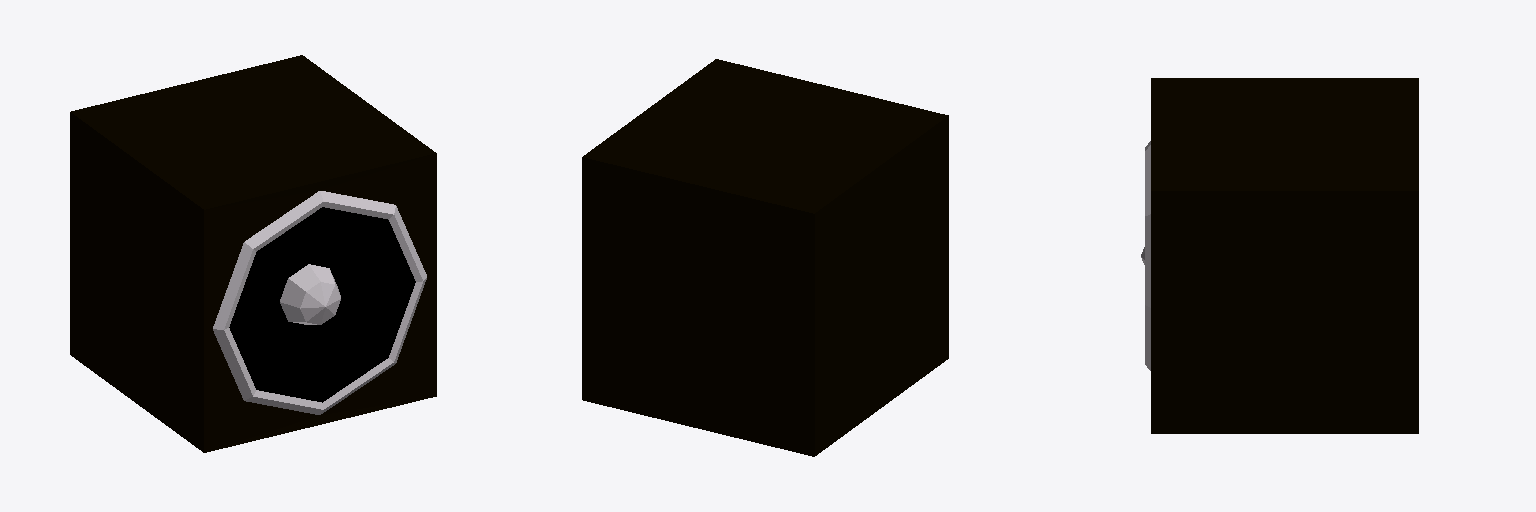
File: speaker2.obj
The picture shows the model from 3 angles: view 1: azimuth 30°, elevation 25°; view 2: azimuth 150°, elevation 25°; view 3: azimuth 270°, elevation 25°; orthographic projection.
Parts seen in each view (by area): view 1: Speaker2_Cube.565; view 2: Speaker2_Cube.565; view 3: Speaker2_Cube.565.
Boxes of the visible parts, x1=… form: Speaker2_Cube.565: x1=70, y1=55, x2=436, y2=452; Speaker2_Cube.565: x1=582, y1=59, x2=948, y2=456; Speaker2_Cube.565: x1=1141, y1=78, x2=1418, y2=433.
Size of the model in its own units: 7.94 by 7.94 by 8.25.